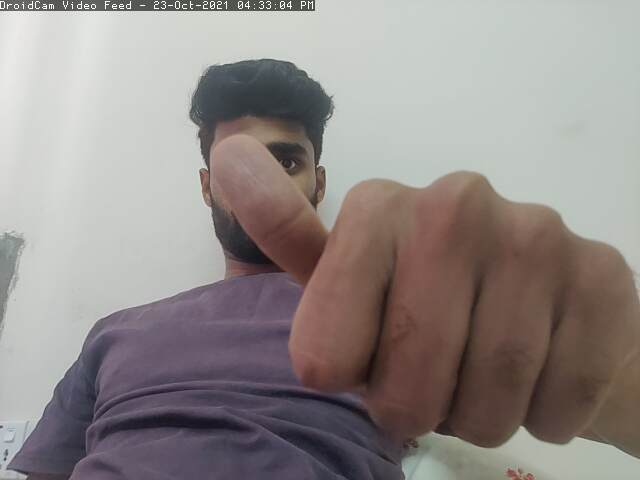ThumbsUp: (209, 133, 635, 438)
